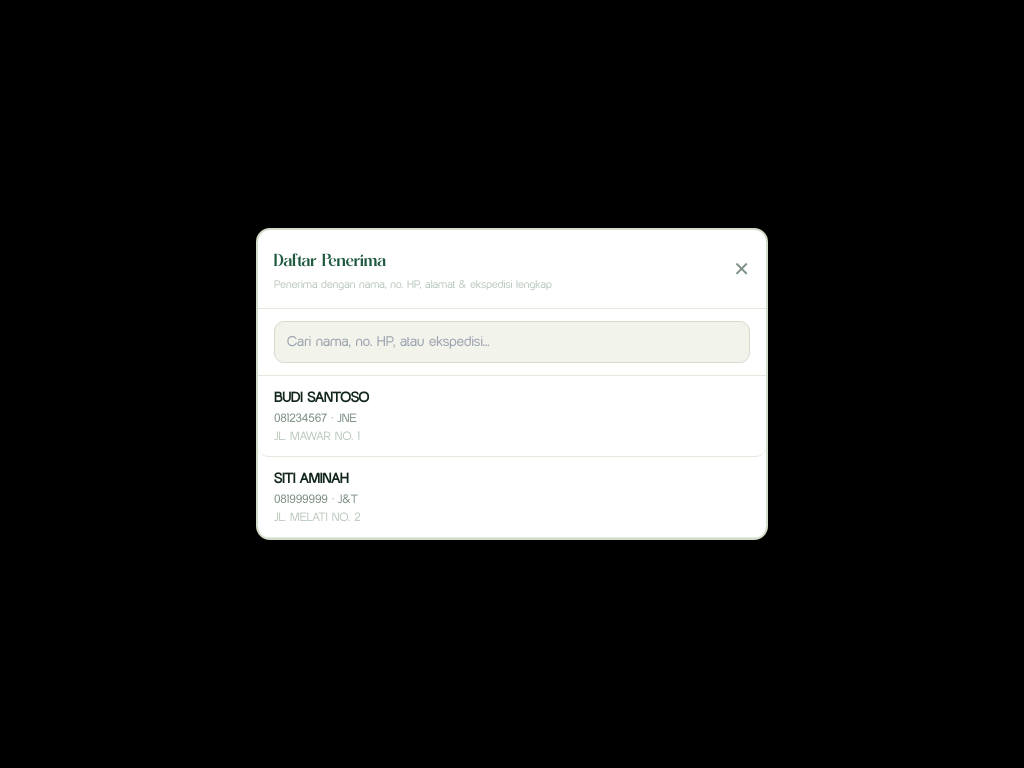
Test case: DaftarPenerimaModal › mencari via nama/no_hp/ekspedisi memfilter daftar
Type "J&T" into the field with placeholder "Cari nama, no. HP, atau ekspedisi..." at [512, 342], box [274,321,750,363]
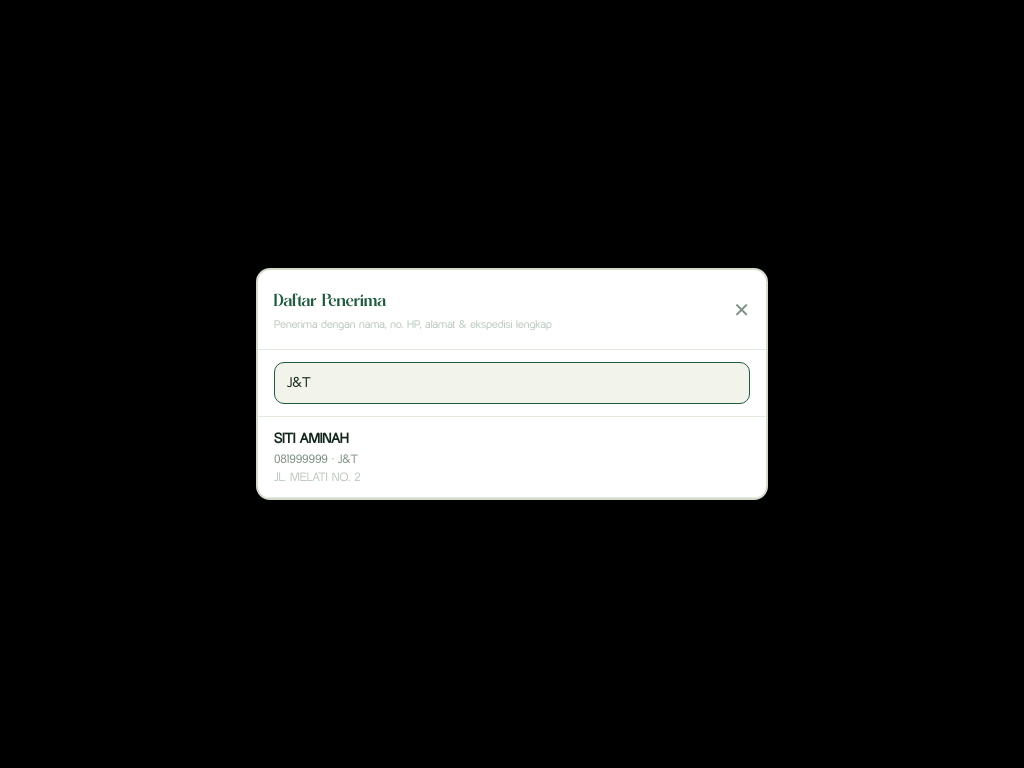
Check: the text "Siti Aminah" is shown, box [274,430,349,447]
Check: the button "Budi Santoso" is gone
